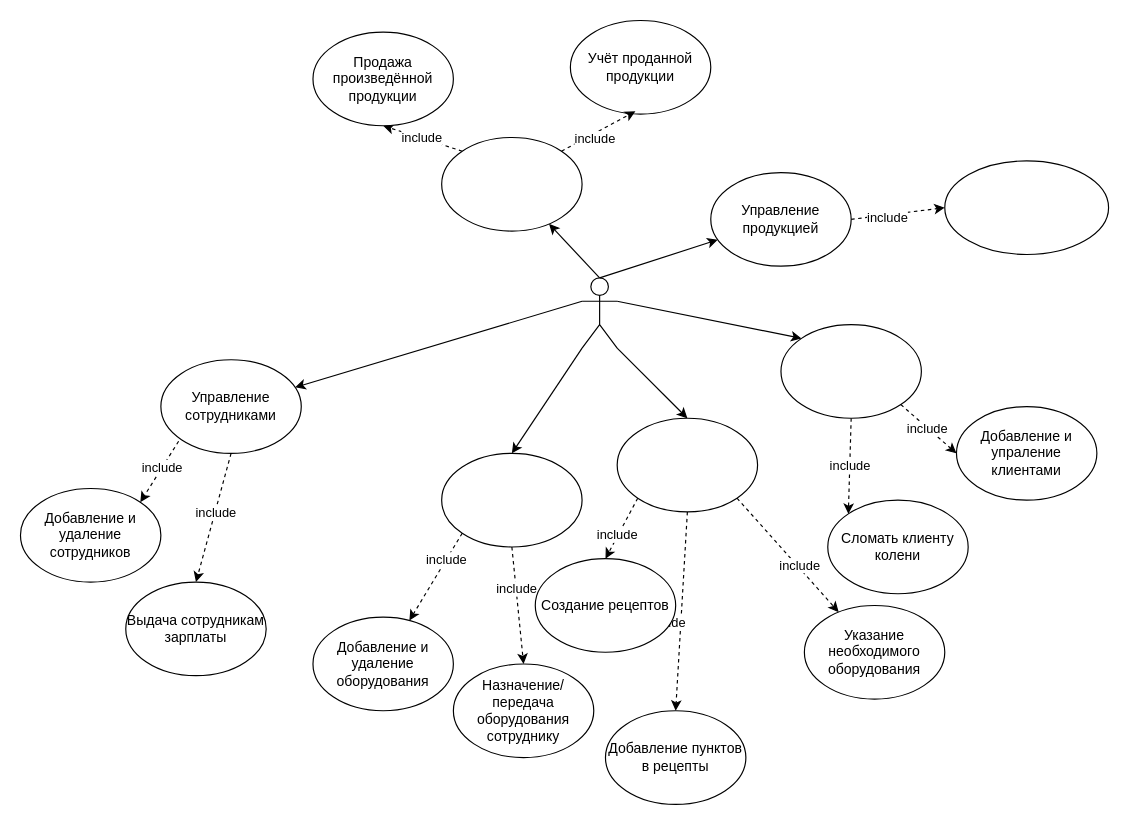
This 1129x825 diagram has some shape labels left out. The box of each missing label's shape, as (x1, y1, x2, y2) in pixels:
Добавление произведённой по рецептам продукции: (944, 160, 1109, 254)
Управленец: (581, 277, 617, 348)
Управление клиентами: (780, 324, 921, 418)
Управление оборудованием: (441, 452, 582, 547)
Управление продажами: (441, 136, 582, 231)
Управление рецептами: (616, 417, 758, 512)
